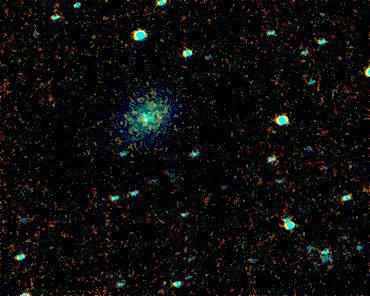star: (126, 106, 156, 136)
